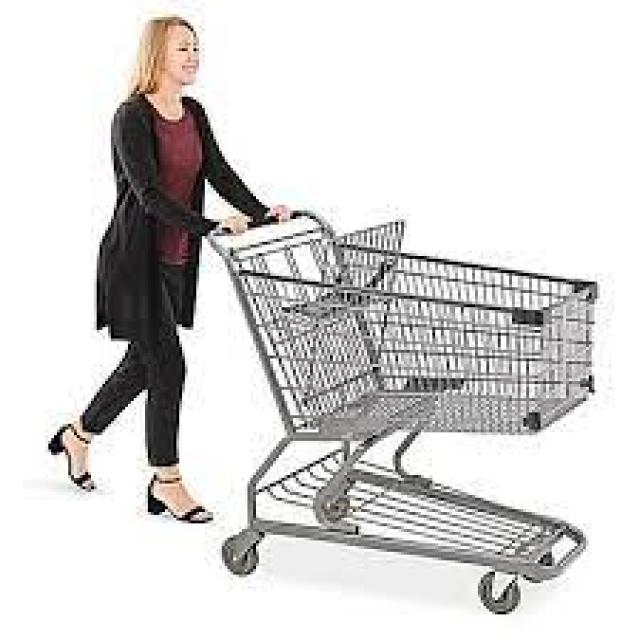Person: (49, 16, 295, 524)
